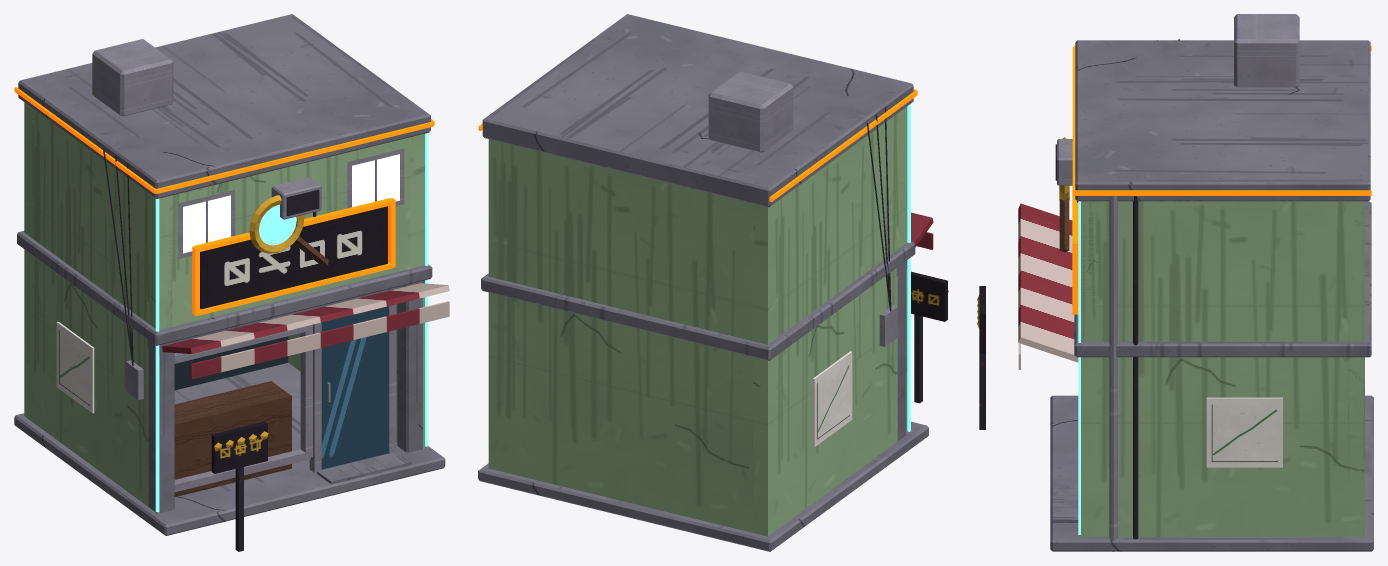
The model's file is servico_google.glb.
3 views of the same model, side by side, from view 1: azimuth 30°, elevation 25°; view 2: azimuth 150°, elevation 25°; view 3: azimuth 270°, elevation 25° (orthographic). The views are drawn at different scales.
Visible parts, largest first — view 1: servico_google; view 2: servico_google; view 3: servico_google.
Boxes of the visible parts, box(x1,y1,x2,y2) form: servico_google: box(14, 14, 449, 551); servico_google: box(478, 14, 948, 551); servico_google: box(977, 14, 1373, 551).
Size of the model in its own units: 3.18 by 4.2 by 3.63.
5 materials, 2 textured.
